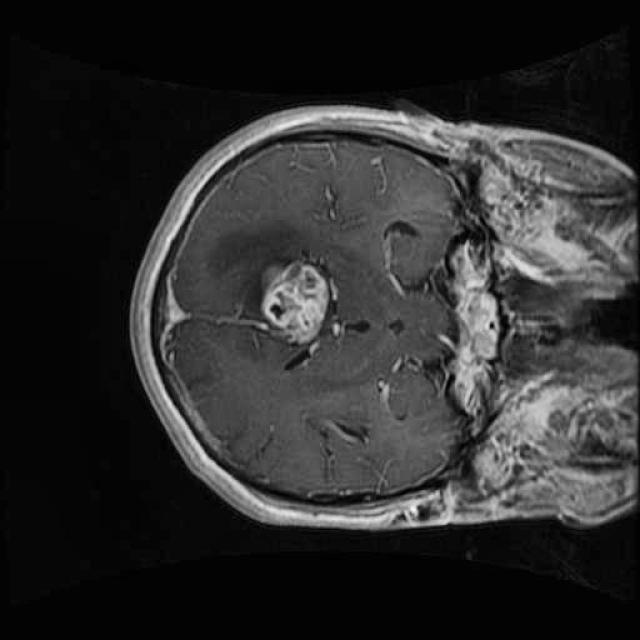Non-Tumor: (253, 253, 338, 354)
